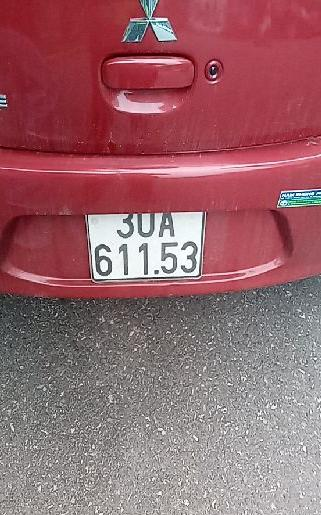Plate-iWeP: (86, 203, 207, 282)
